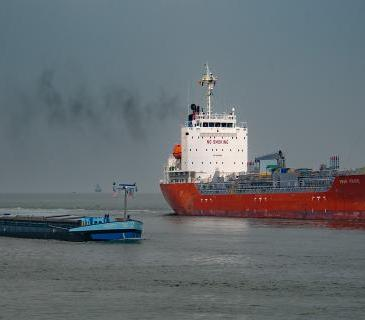Ship: (153, 60, 365, 230), (0, 171, 149, 275)
